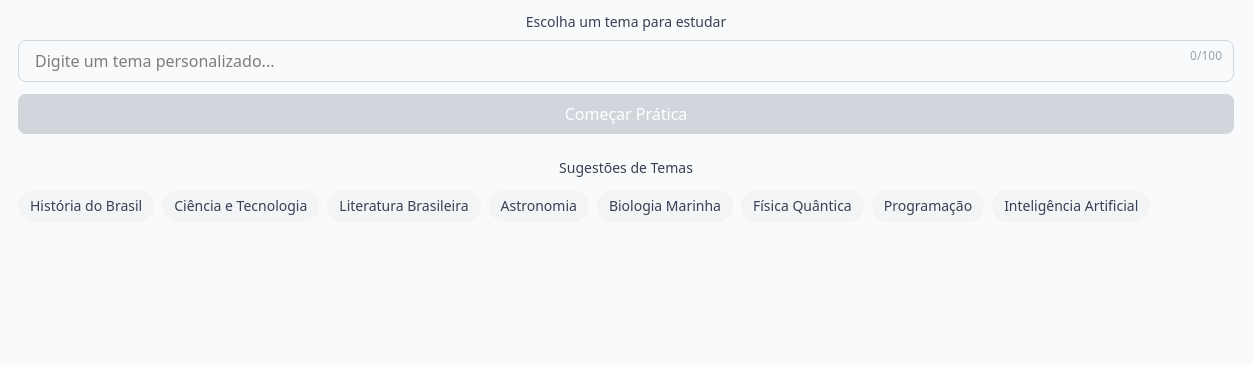
ThemeSelector › Local Storage Integration - Recent Themes › should add theme to recent themes after selection
This screenshot has width=1253, height=365.
Type "Test Theme" into the field with placeholder "Digite um tema personalizado..." at x=626, y=61, box top-left (18, 40), bottom-right (1234, 82)
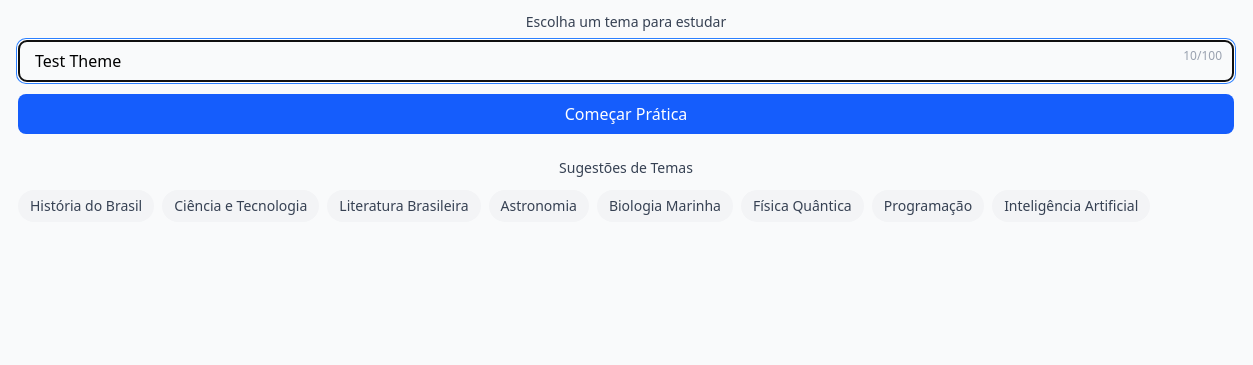
Click the button "Começar Prática" at x=626, y=114, box top-left (18, 94), bottom-right (1234, 134)
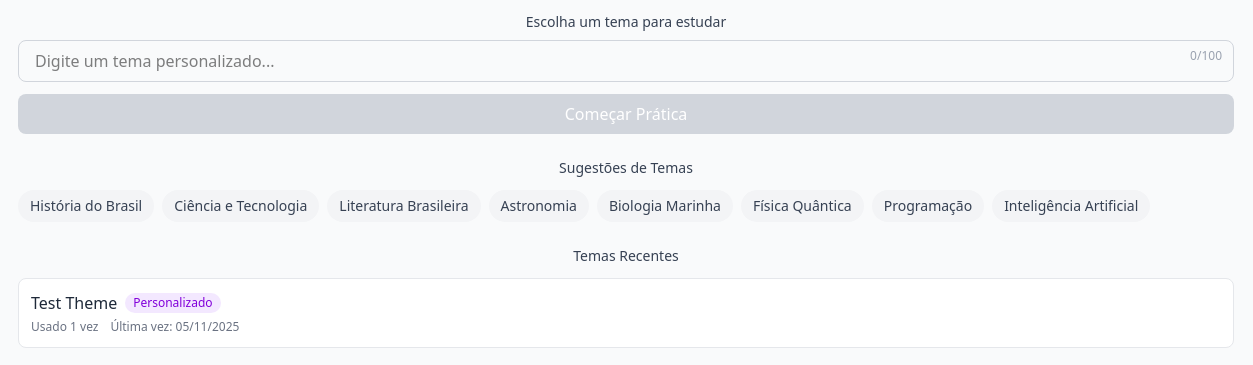
Now the text "Test Theme" is shown, box top-left (31, 291), bottom-right (117, 315)
